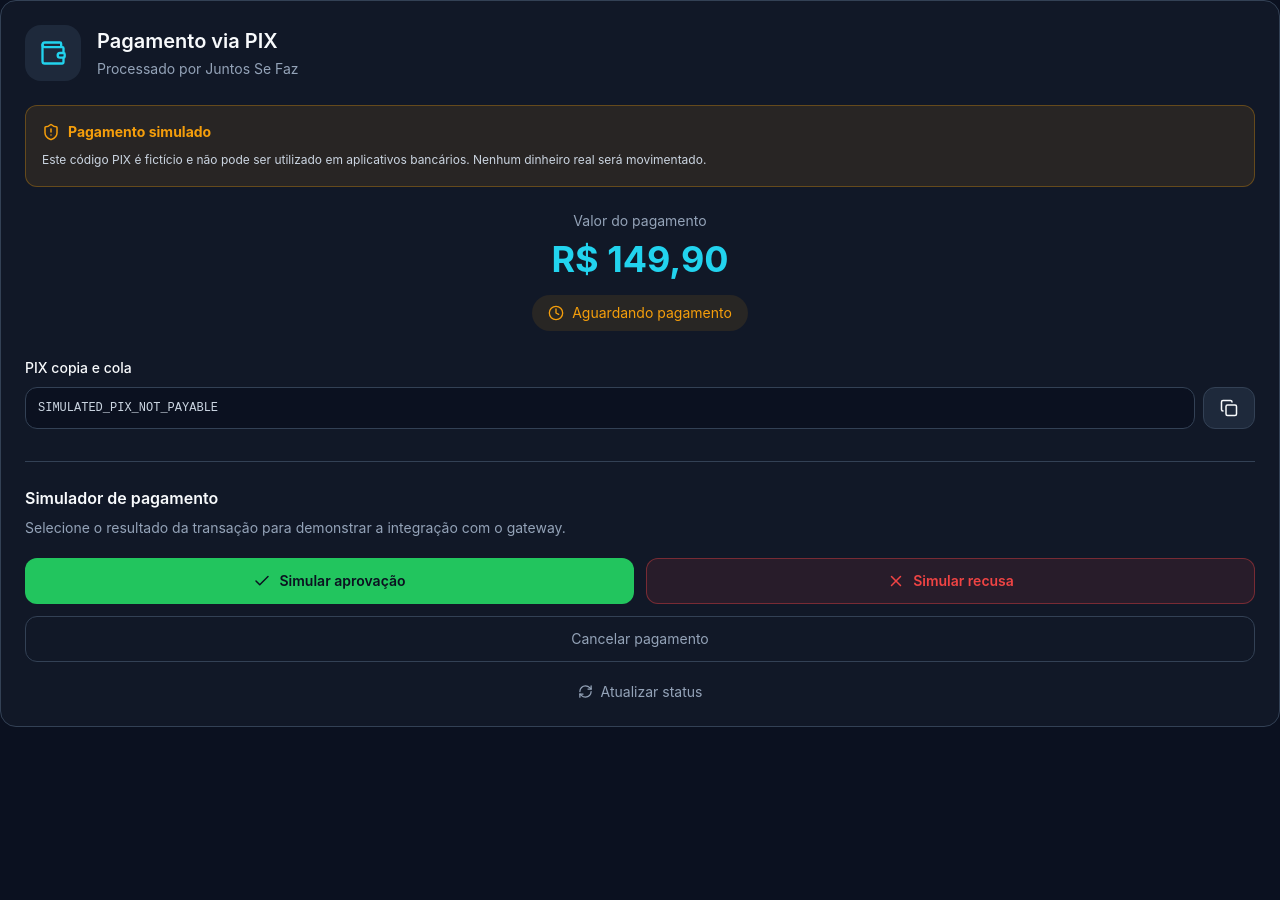
Test: PixPayment › should display an error when copying fails
This screenshot has width=1280, height=900.
Click the button named "Copiar código PIX".
click(1229, 408)  # box top-left (1203, 386), bottom-right (1255, 428)
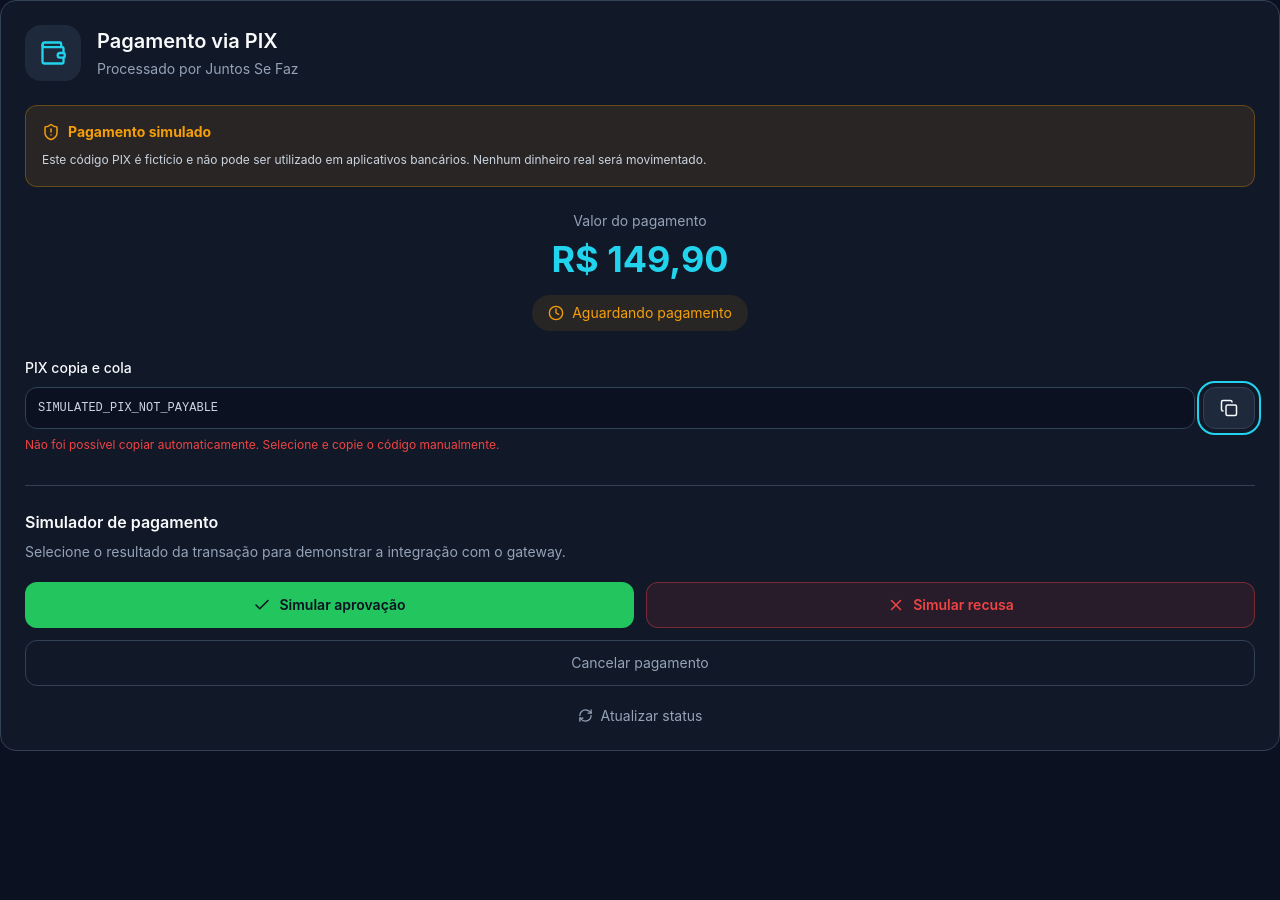
Result: the 2nd message shows "Não foi possível copiar automaticamente" at top-left (25, 436), bottom-right (499, 452)
